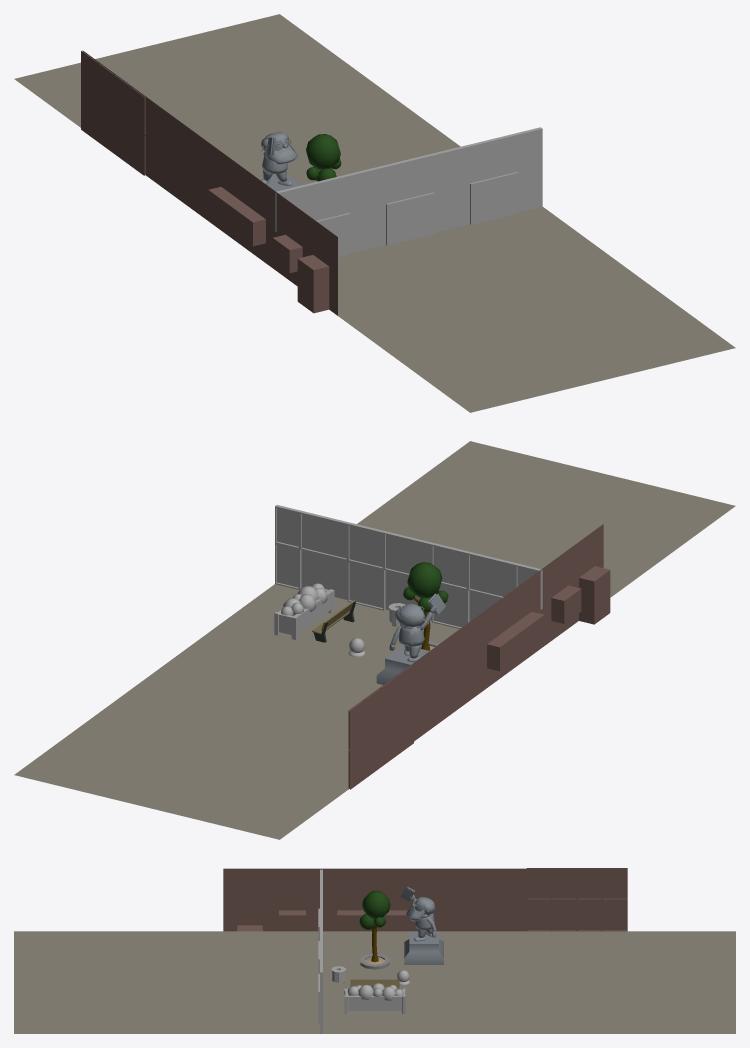
File: STREET_01_v2.fbx
3 views of the same model, one above another, from view 1: azimuth 30°, elevation 25°; view 2: azimuth 150°, elevation 25°; view 3: azimuth 270°, elevation 25° (orthographic). The views are drawn at different scales.
Visible parts, largest first — view 1: sol, entree_magasin, mur_chunk, vitre, mur_chunk2, mur_chunk3, statue, feuilles, fenetre, pCube24, pCube23, pCube26 (+3 smaller); view 2: sol, entree_magasin, vitre, mur_chunk, mur_chunk2, mur_chunk3, feuilles (×2), statue, contenant, fenetre, pCube23, pCube26 (+3 smaller); view 3: sol, mur_chunk, vitre, mur_chunk2, mur_chunk3, feuilles (×2), mur_chunk4, piedestal, statue, fenetre (×2), contenant, porte (+3 smaller).
Boxes of the visible parts, bbox=[...] form: sol: bbox=[14, 14, 735, 412]; entree_magasin: bbox=[275, 127, 542, 253]; mur_chunk: bbox=[146, 97, 210, 222]; vitre: bbox=[81, 51, 144, 175]; mur_chunk2: bbox=[273, 190, 337, 315]; mur_chunk3: bbox=[208, 144, 273, 268]; statue: bbox=[261, 132, 298, 186]; feuilles: bbox=[306, 134, 341, 181]; fenetre: bbox=[208, 190, 252, 246]; pCube24: bbox=[386, 198, 410, 245]; pCube23: bbox=[470, 177, 494, 224]; pCube26: bbox=[494, 172, 518, 218]; sol: bbox=[14, 441, 735, 839]; entree_magasin: bbox=[275, 505, 542, 628]; vitre: bbox=[350, 664, 413, 789]; mur_chunk: bbox=[412, 617, 475, 741]; mur_chunk2: bbox=[539, 524, 609, 649]; mur_chunk3: bbox=[476, 571, 543, 695]; feuilles (×2): bbox=[281, 562, 448, 615]; statue: bbox=[389, 593, 445, 661]; contenant: bbox=[274, 589, 334, 639]; fenetre: bbox=[500, 615, 544, 670]; pCube23: bbox=[325, 556, 347, 599]; pCube26: bbox=[301, 550, 325, 588]; sol: bbox=[14, 931, 735, 1033]; mur_chunk: bbox=[425, 868, 526, 931]; vitre: bbox=[526, 868, 627, 929]; mur_chunk2: bbox=[223, 868, 324, 931]; mur_chunk3: bbox=[324, 868, 425, 931]; feuilles (×2): bbox=[347, 890, 403, 1000]; mur_chunk4: bbox=[526, 868, 627, 931]; piedestal: bbox=[404, 931, 443, 964]; statue: bbox=[400, 886, 436, 941]; fenetre (×2): bbox=[279, 896, 407, 910]; contenant: bbox=[344, 988, 405, 1013]; porte: bbox=[237, 897, 262, 925].
Size of the model in its own units: 1272 by 388 by 3574.
